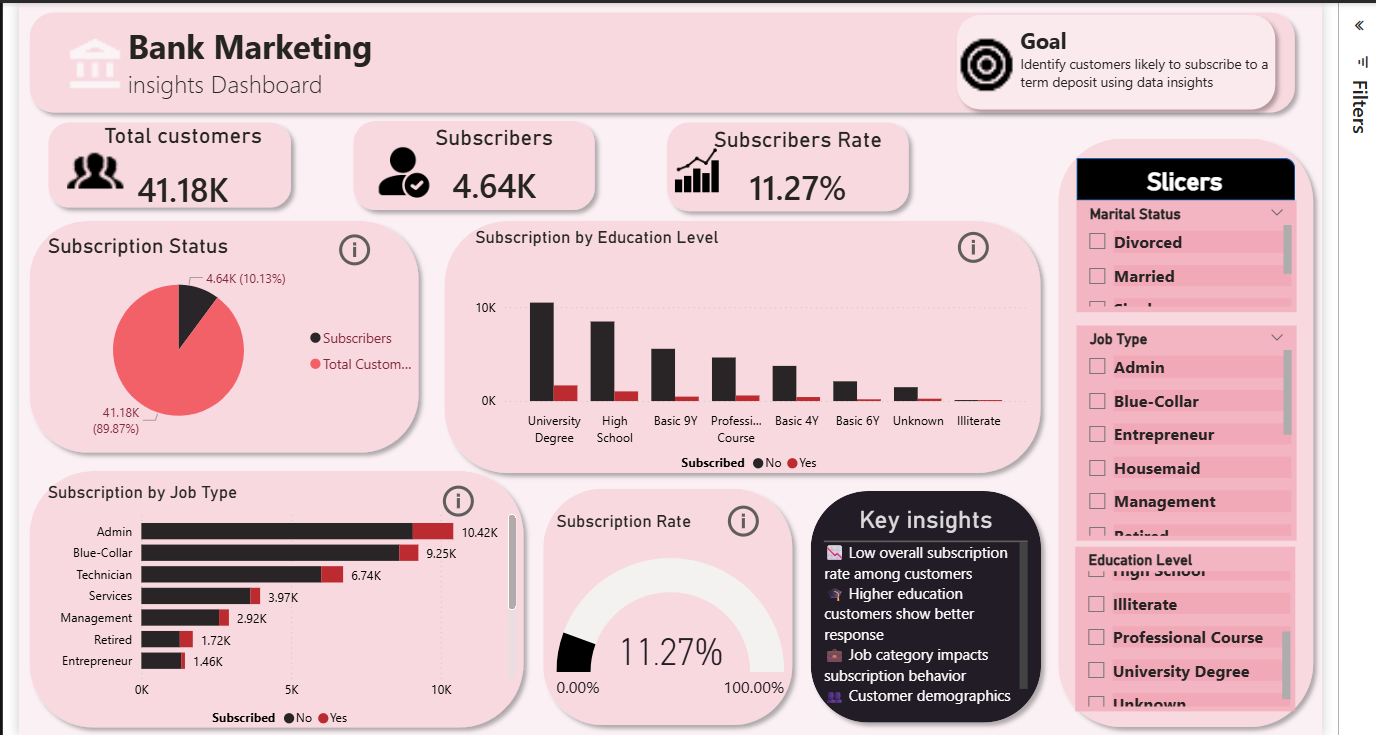

What the dashboard file says about the page in this screenshot:
{"tool":"powerbi","page":{"name":"Bank Marketing","canvas":[1280,720],"ordinal":0},"visuals":[{"type":"shape","box":[1.2,0,1260.1,116.6],"z":0},{"type":"textbox","box":[102.4,15.9,264,90.9],"z":1000},{"type":"image","box":[47.6,31.7,53.4,59.2],"z":2000},{"type":"shape","box":[911.8,2.9,330.4,111.1],"z":3000},{"type":"image","box":[916.2,33.2,66.4,54.8],"z":4000},{"type":"textbox","box":[978.2,17.3,264,90.9],"z":5000},{"type":"shape","box":[19.6,108,256.4,101.8],"z":6000},{"type":"cardVisual","title":"Total customers","fields":{"Data":["Measures (2).Total Customers"]},"box":[60.6,117.9,202,103.9],"z":7000},{"type":"shape","box":[319,106.7,255.2,105.5],"z":8000},{"type":"cardVisual","title":"Subscribers","fields":{"Data":["Measures (2).Subscribers"]},"box":[366.5,119.4,199.1,92.3],"z":9000},{"type":"shape","box":[627.6,107.6,255.4,105.3],"z":10000},{"type":"cardVisual","title":"Subscribers Rate","fields":{"Data":["Measures (2).Subscription Rate"]},"box":[665.1,121.2,199.1,92.3],"z":11000},{"type":"image","box":[344.8,138.1,66.4,54.8],"z":12000},{"type":"image","box":[41.8,136.6,66.4,54.8],"z":13000},{"type":"image","box":[643.5,135.6,44.7,54.8],"z":14000},{"type":"shape","box":[1.2,204.9,400,245.4],"z":15000},{"type":"shape","box":[1011.4,124.1,268.4,595.9],"z":16000},{"type":"slicer","fields":{"Values":["Bank Marketing Data.Marital"]},"box":[1038,193.9,216,109.2],"z":17000},{"type":"slicer","fields":{"Values":["Bank Marketing Data.Job"]},"box":[1038,316.6,216,211],"z":18000},{"type":"slicer","fields":{"Values":["Bank Marketing Data.Education"]},"box":[1036.8,533.7,216,162],"z":19000},{"type":"pieChart","title":"Subscription Status","fields":{"Y":["Measures (2).Subscribers","Measures (2).Total Customers"]},"box":[23.3,225.8,377.9,207.4],"z":20000},{"type":"shape","box":[1.2,450.3,503.1,269.9],"z":21000},{"type":"barChart","title":"Subscription by Job Type","fields":{"Category":["Bank Marketing Data.Job"],"Y":["Measures (2).Total Customers"],"Series":["Bank Marketing Data.Subscribed"]},"box":[23.3,469.9,469.9,250.3],"z":22000},{"type":"shape","box":[408.3,204.9,603.1,265.5],"z":23000},{"type":"clusteredColumnChart","title":"Subscription by Education Level","fields":{"Series":["Bank Marketing Data.Subscribed"],"Y":["Measures (2).Total Customers"],"Category":["Bank Marketing Data.Education"]},"box":[442.9,219.6,552.2,250.3],"z":24000},{"type":"shape","box":[768.1,469.9,244.2,245.4],"z":25000},{"type":"textbox","title":"Key insights","box":[785.3,493.3,209.8,202.5],"z":26000},{"type":"shape","box":[1038,152.1,214.7,41.7],"z":27000},{"type":"textbox","title":"Slicers","box":[1039.3,160.7,209.8,33.1],"z":28000},{"type":"shape","box":[505.5,467.5,262.6,250.3],"z":29000},{"type":"gauge","fields":{"Y":["Measures (2).Subscription Rate"]},"box":[522.3,497.8,233.7,217.9],"z":30000},{"type":"actionButton","box":[309.2,222.1,44.2,40.5],"z":31000},{"type":"actionButton","box":[916.6,219.6,45.4,40.5],"z":32000},{"type":"actionButton","box":[411,468.7,55.2,40.5],"z":33000},{"type":"actionButton","box":[690.8,488.3,49.1,40.5],"z":34000}]}

Visuals, with their boxes on the page's 1280x720 design canvas (x1, y1, x2, y2). These are canvas units, not pixel positions in the 1376x735 screenshot, which may show the page scaled, cropped or inside an application window:
shape: {"left": 1, "top": 0, "right": 1261, "bottom": 117}
textbox: {"left": 102, "top": 16, "right": 366, "bottom": 107}
image: {"left": 48, "top": 32, "right": 101, "bottom": 91}
shape: {"left": 912, "top": 3, "right": 1242, "bottom": 114}
image: {"left": 916, "top": 33, "right": 983, "bottom": 88}
textbox: {"left": 978, "top": 17, "right": 1242, "bottom": 108}
shape: {"left": 20, "top": 108, "right": 276, "bottom": 210}
"Total customers" cardVisual: {"left": 61, "top": 118, "right": 263, "bottom": 222}
shape: {"left": 319, "top": 107, "right": 574, "bottom": 212}
"Subscribers" cardVisual: {"left": 366, "top": 119, "right": 566, "bottom": 212}
shape: {"left": 628, "top": 108, "right": 883, "bottom": 213}
"Subscribers Rate" cardVisual: {"left": 665, "top": 121, "right": 864, "bottom": 214}
image: {"left": 345, "top": 138, "right": 411, "bottom": 193}
image: {"left": 42, "top": 137, "right": 108, "bottom": 191}
image: {"left": 644, "top": 136, "right": 688, "bottom": 190}
shape: {"left": 1, "top": 205, "right": 401, "bottom": 450}
shape: {"left": 1011, "top": 124, "right": 1280, "bottom": 720}
slicer - Bank Marketing Data.Marital: {"left": 1038, "top": 194, "right": 1254, "bottom": 303}
slicer - Bank Marketing Data.Job: {"left": 1038, "top": 317, "right": 1254, "bottom": 528}
slicer - Bank Marketing Data.Education: {"left": 1037, "top": 534, "right": 1253, "bottom": 696}
"Subscription Status" pieChart: {"left": 23, "top": 226, "right": 401, "bottom": 433}
shape: {"left": 1, "top": 450, "right": 504, "bottom": 720}
"Subscription by Job Type" barChart: {"left": 23, "top": 470, "right": 493, "bottom": 720}
shape: {"left": 408, "top": 205, "right": 1011, "bottom": 470}
"Subscription by Education Level" clusteredColumnChart: {"left": 443, "top": 220, "right": 995, "bottom": 470}
shape: {"left": 768, "top": 470, "right": 1012, "bottom": 715}
"Key insights" textbox: {"left": 785, "top": 493, "right": 995, "bottom": 696}
shape: {"left": 1038, "top": 152, "right": 1253, "bottom": 194}
"Slicers" textbox: {"left": 1039, "top": 161, "right": 1249, "bottom": 194}
shape: {"left": 506, "top": 468, "right": 768, "bottom": 718}
gauge - Measures (2).Subscription Rate: {"left": 522, "top": 498, "right": 756, "bottom": 716}
actionButton: {"left": 309, "top": 222, "right": 353, "bottom": 263}
actionButton: {"left": 917, "top": 220, "right": 962, "bottom": 260}
actionButton: {"left": 411, "top": 469, "right": 466, "bottom": 509}
actionButton: {"left": 691, "top": 488, "right": 740, "bottom": 529}
